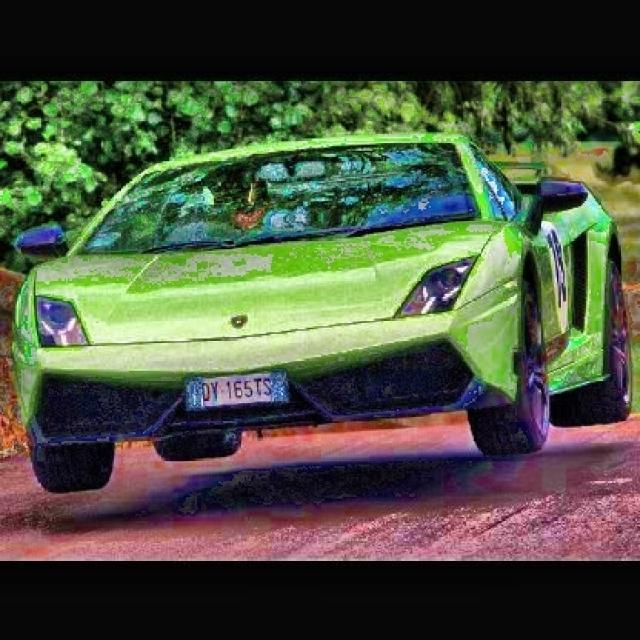green: (17, 130, 631, 492)
